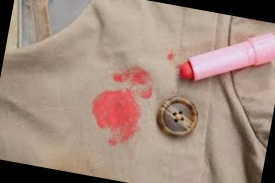lipstick: (83, 87, 146, 148), (118, 60, 160, 103), (106, 68, 147, 95), (167, 50, 177, 62)
